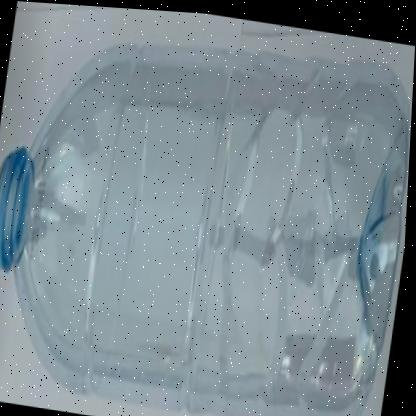open bottle: (1, 1, 142, 414)
